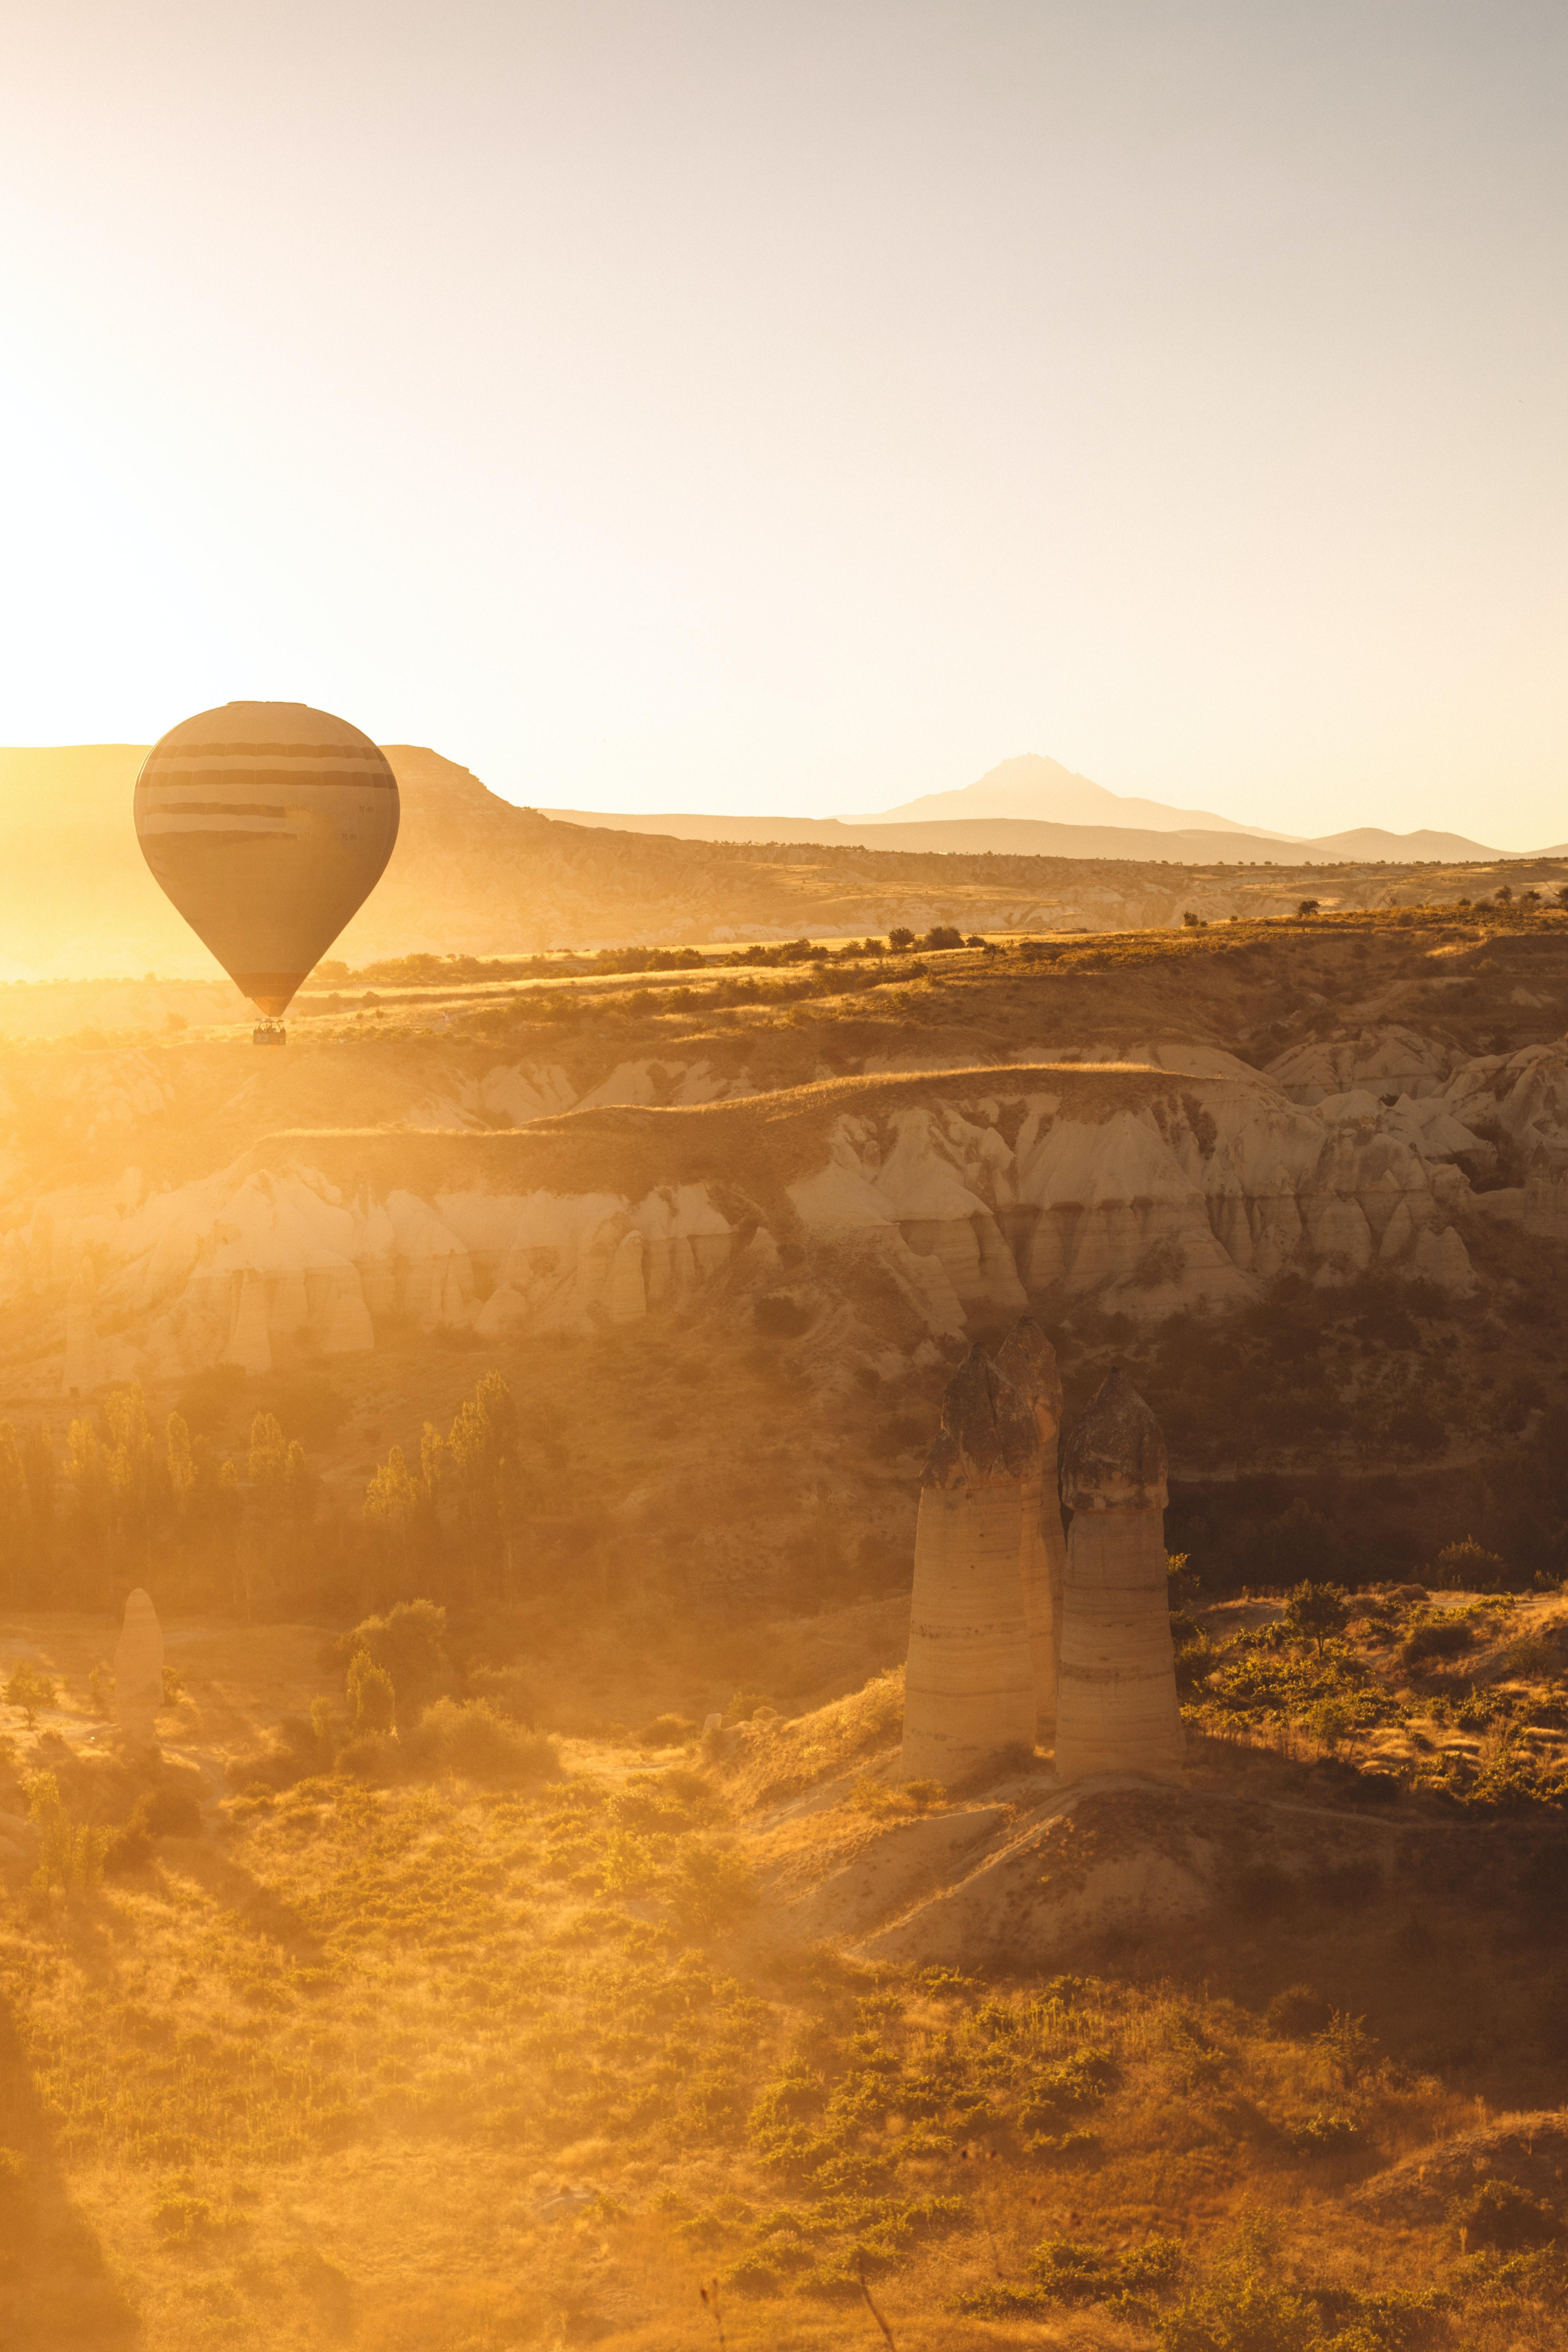hot air ballon: (133, 704, 403, 1045)
